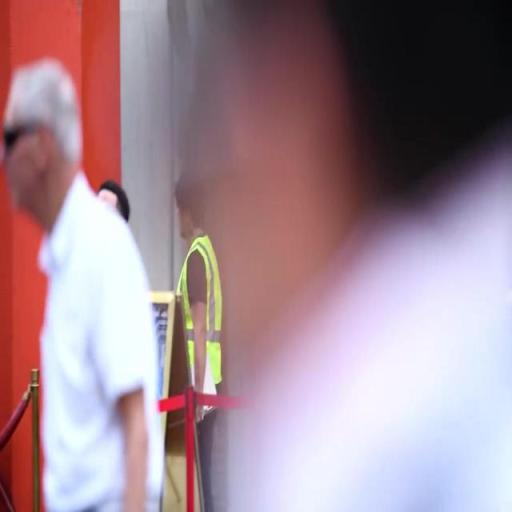vest: (162, 227, 236, 403)
